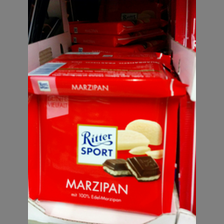chocolate: (28, 92, 178, 217), (27, 49, 187, 96)
